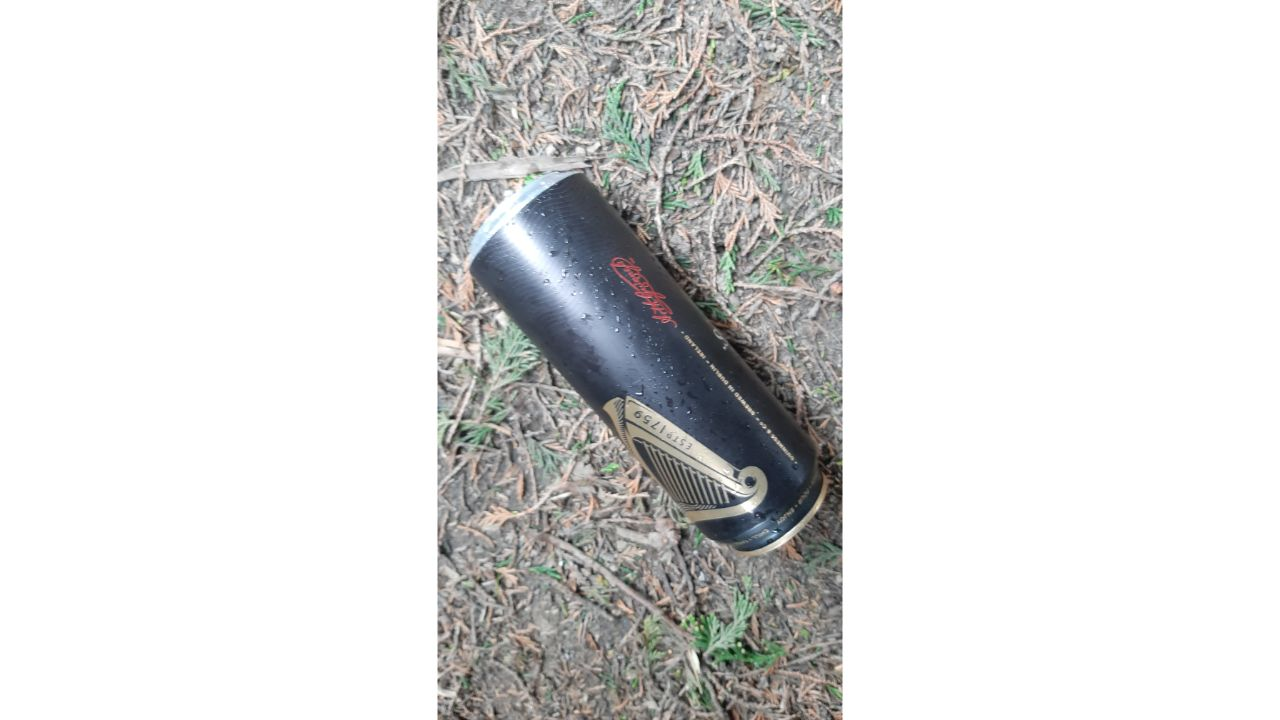Can: (458, 160, 834, 568)
